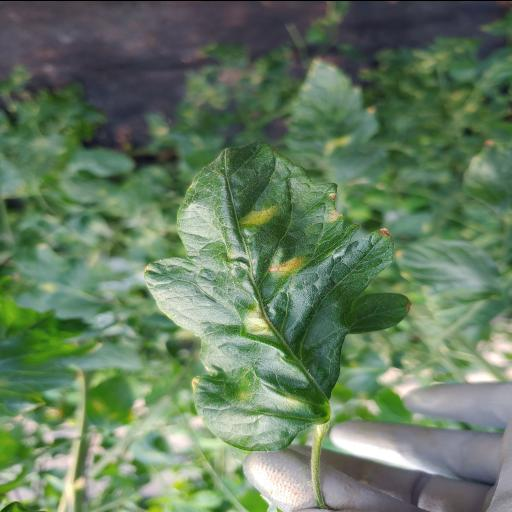Leaf Mold: (138, 142, 413, 451)
